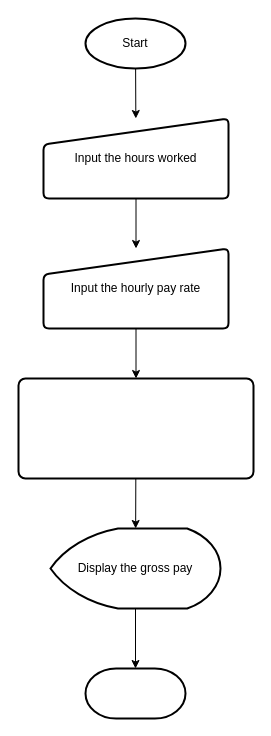
Image size: 271x736. Some labels were removed from this diagram. Here are the shapes that lost their labels. From the top down, the centre of each, then its label:
At (x=135, y=428): "Calculate gross pay as hours worked multiplied by pay rate".
At (x=135, y=693): "Terminate".
